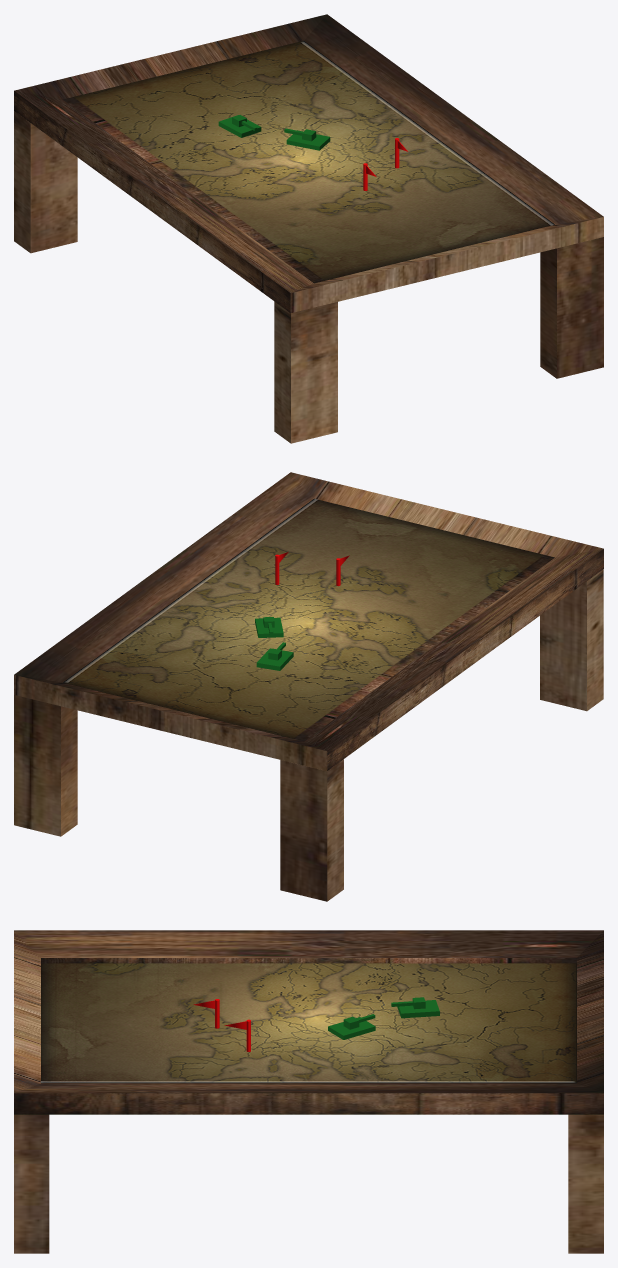
Rendered from war-table.FBX.
The picture shows the model from 3 angles, top to bottom: view 1: azimuth 30°, elevation 25°; view 2: azimuth 150°, elevation 25°; view 3: azimuth 270°, elevation 25°; orthographic projection. The views are drawn at different scales.
Parts seen in each view (by area): view 1: Box001; view 2: Box001; view 3: Box001.
Part boxes in pixels (x1,y1,x2,y2): Box001: (14, 14, 603, 443); Box001: (14, 472, 603, 901); Box001: (14, 930, 603, 1253).
Size of the model in its own units: 3.78 by 1.98 by 5.79.
1 material, 1 textured.
